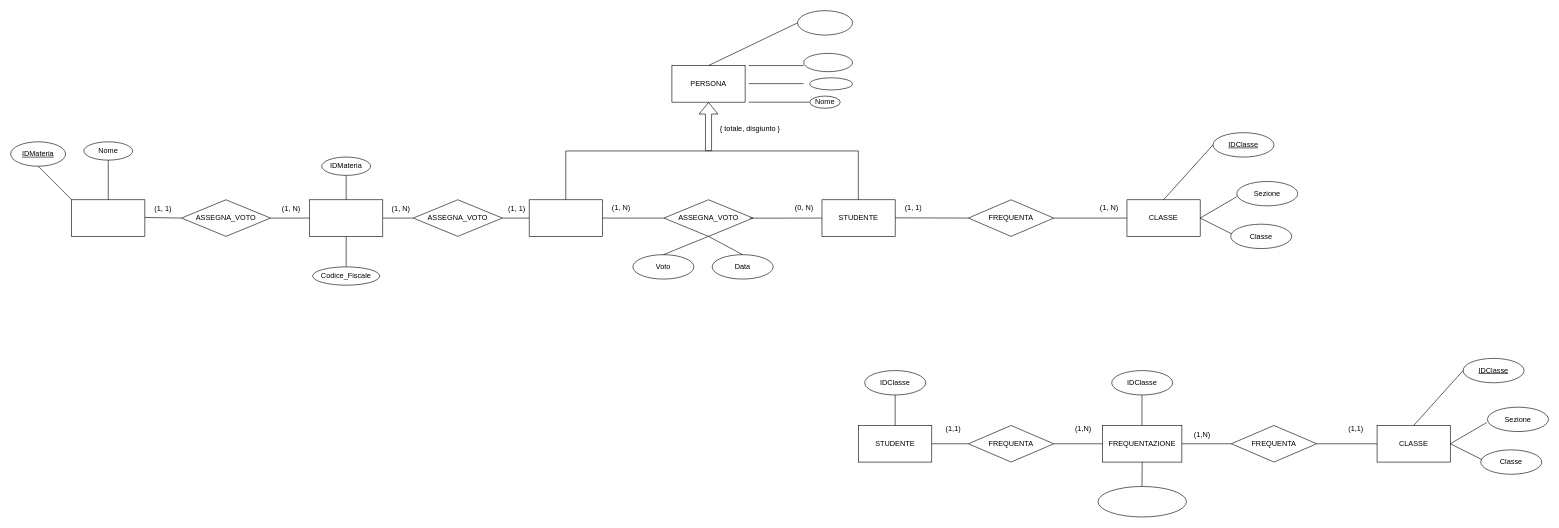
Image size: 1559x528. Some labels were removed from this diagram. Here are the shapes that lost their labels. From the top down, the box of each, then its label:
(797, 10, 852, 35): Codice fiscale
(803, 53, 852, 72): Data_nascita
(809, 77, 852, 90): Cognome
(71, 199, 145, 236): Materia
(309, 199, 383, 236): INSEGNAMENTO
(529, 199, 602, 236): PROFESSORE
(1097, 486, 1186, 517): Codice_Fiscale_Studente
